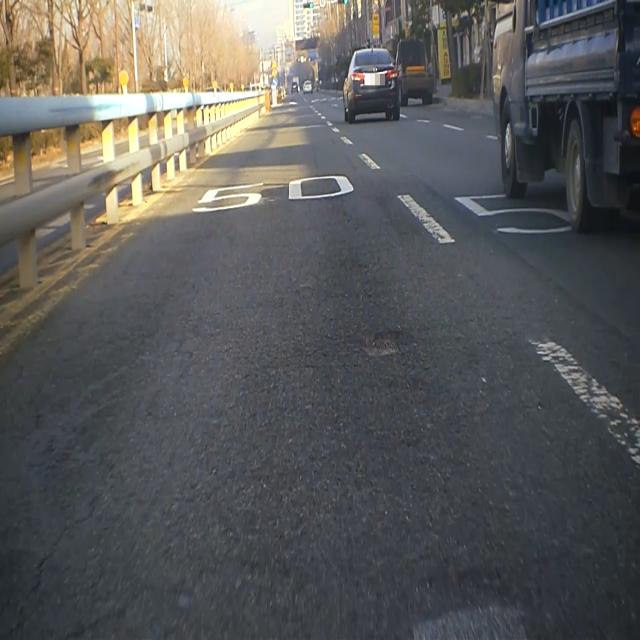Pothole: (351, 321, 420, 372)
